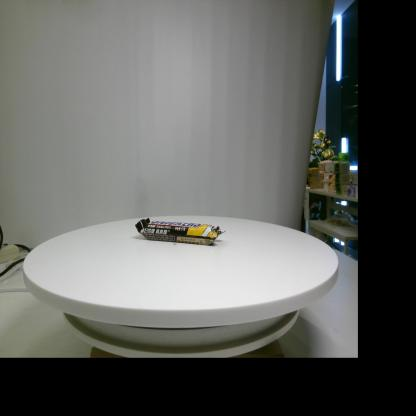Chocolate: (135, 218, 226, 245)
